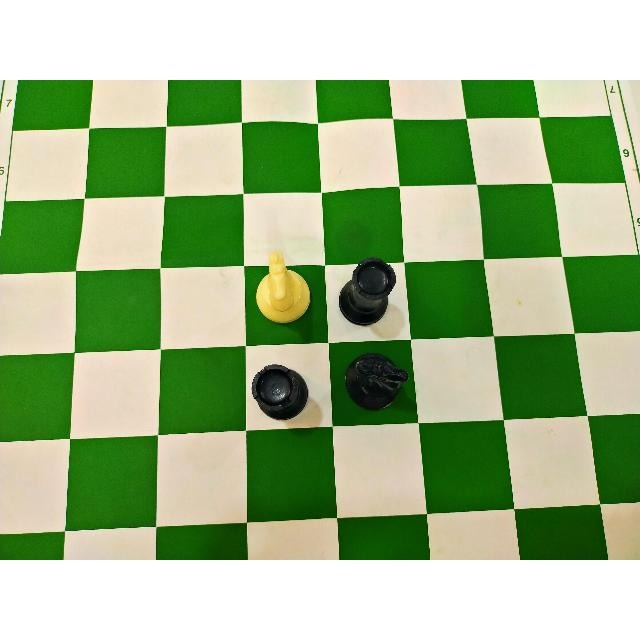black-knight: (340, 349, 411, 415)
black-rook: (337, 255, 405, 326), (249, 363, 309, 423)
white-knight: (248, 248, 312, 325)
